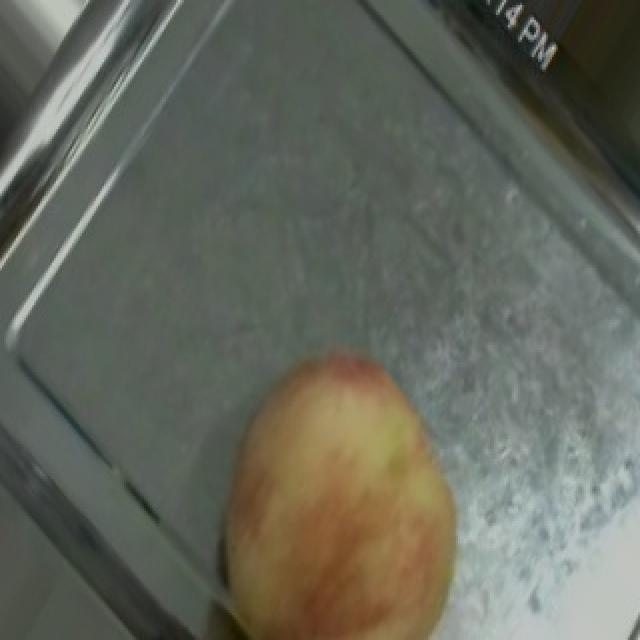Fruit: (174, 312, 498, 640)
